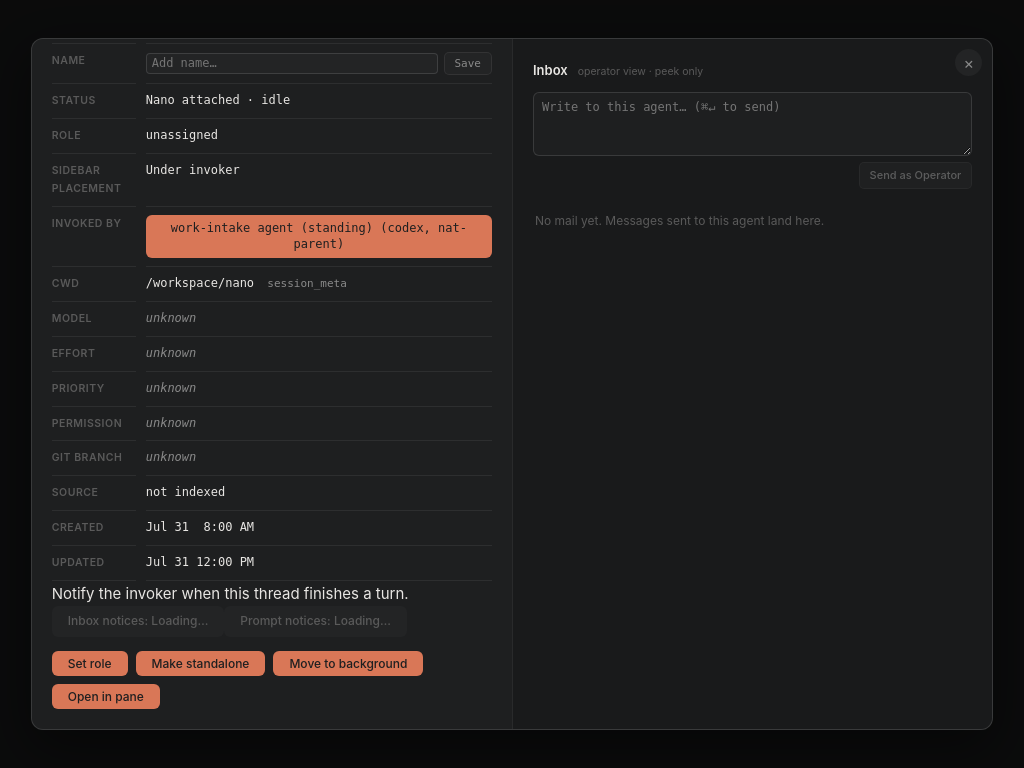
Test: quick-detail sidebar placement › shows clickable invocation lineage and makes an unassigned thread standalone
(page scrolled)
Check: the button "work-intake agent (standing) (codex, nat-parent)" is shown, box [146, 215, 492, 258]
Check: the text "Under invoker" is shown, box [146, 154, 492, 207]
Click the button "Make standalone" at (200, 663), box [136, 651, 265, 676]
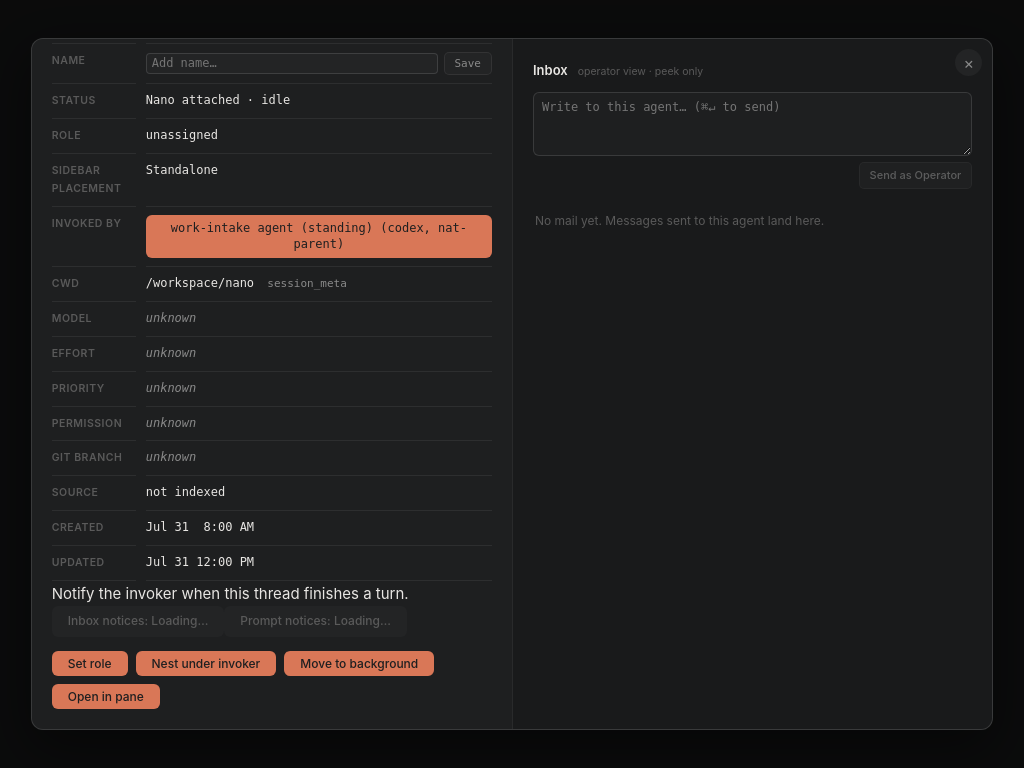
Check: the button "Nest under invoker" is shown, box [136, 651, 276, 676]
